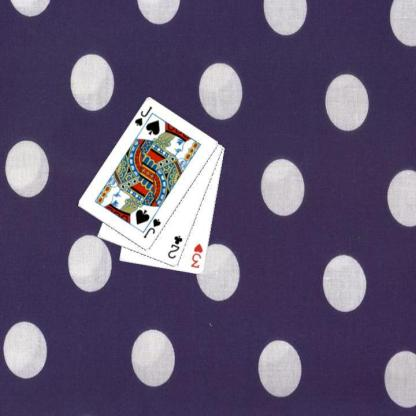2C: (165, 233, 184, 260)
3H: (188, 241, 204, 269)
JS: (132, 104, 154, 128), (141, 216, 162, 240)
